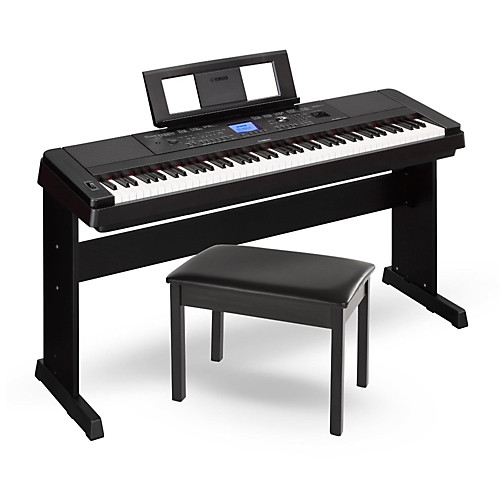GrandPiano: (16, 89, 478, 216)
